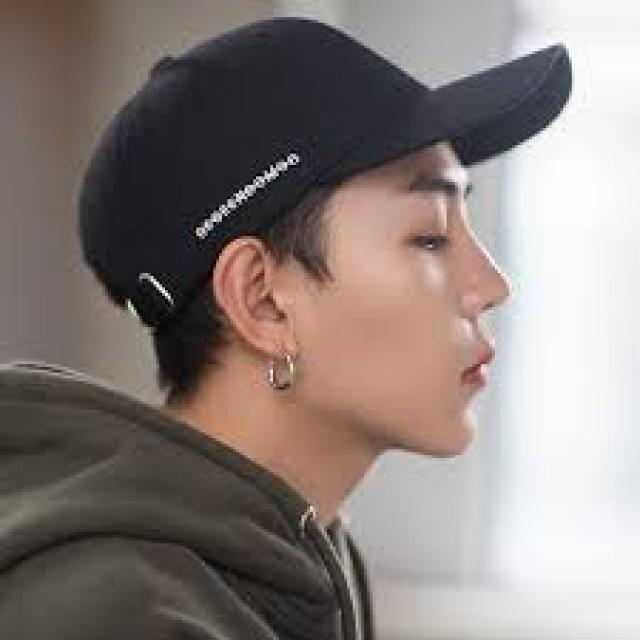cap: (78, 4, 586, 338)
